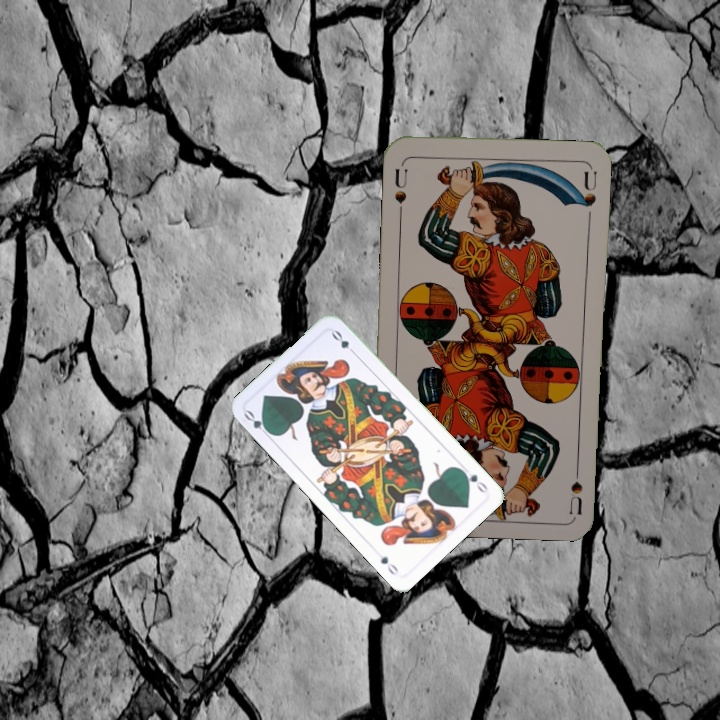GO: (240, 406, 275, 440), (457, 465, 490, 495)
SU: (390, 159, 410, 218), (565, 456, 585, 515)
